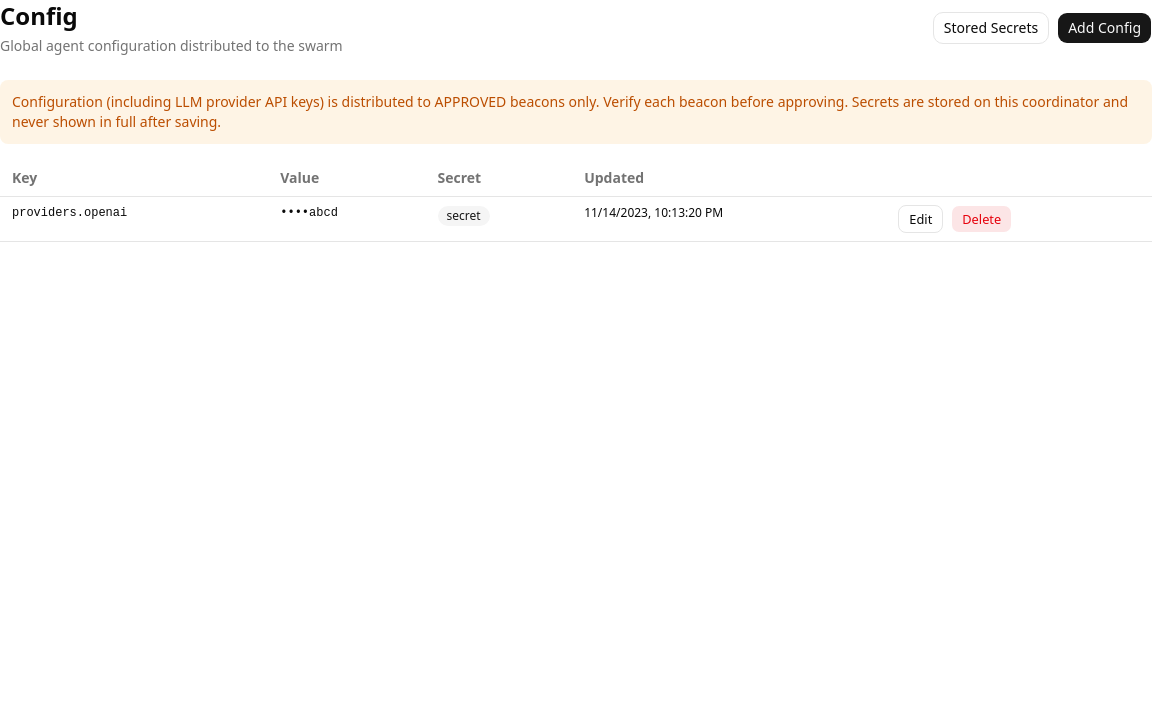
ConfigPage › shows an error toast and keeps the row when delete fails
The width and height of the screenshot is (1152, 720).
Expected: the text "providers.openai" is shown, x1=0 y1=196 x2=268 y2=242
Click the button "Delete": click(982, 219) x1=951 y1=205 x2=1012 y2=233
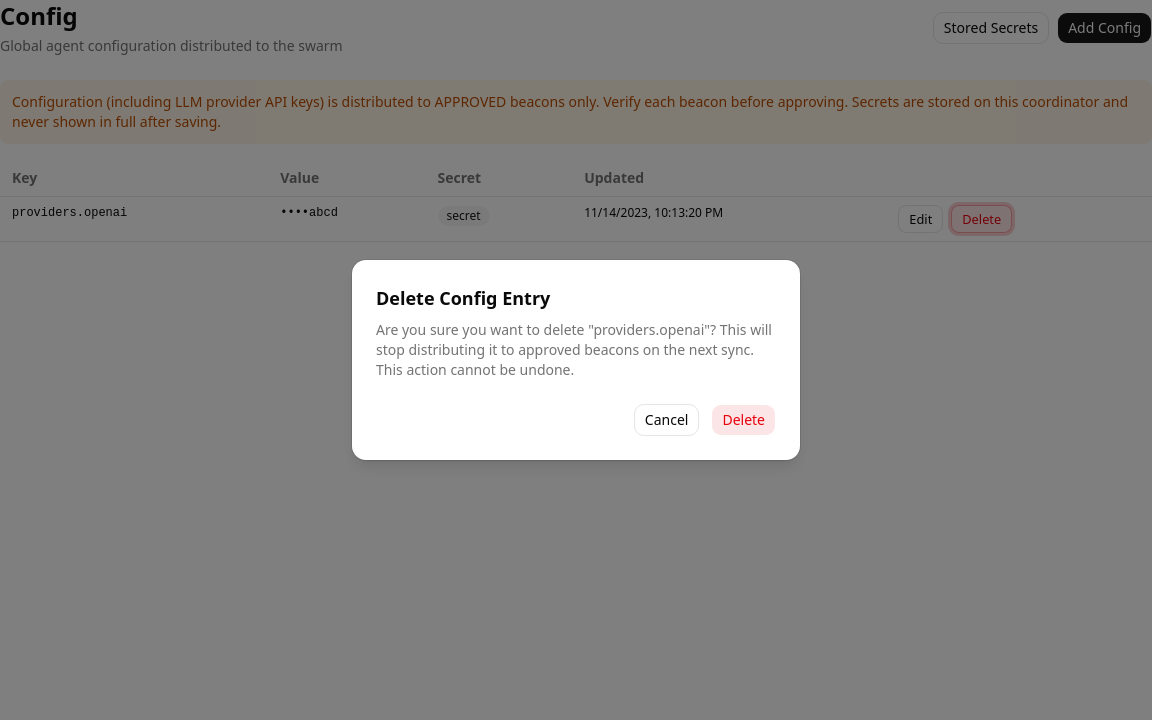
Click the button "Delete": click(744, 420) x1=711 y1=404 x2=776 y2=436
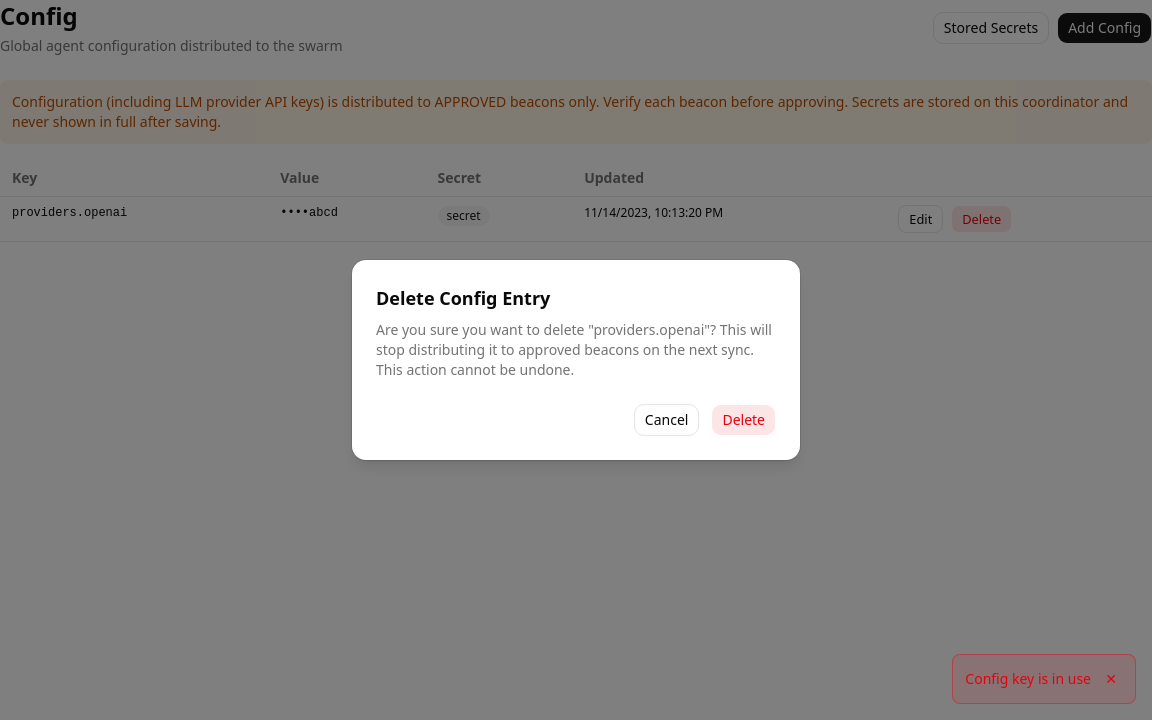
Expected: the text "providers.openai" is shown, x1=0 y1=196 x2=268 y2=242
Expected: the message shows "Config key is in use", x1=965 y1=669 x2=1091 y2=688
